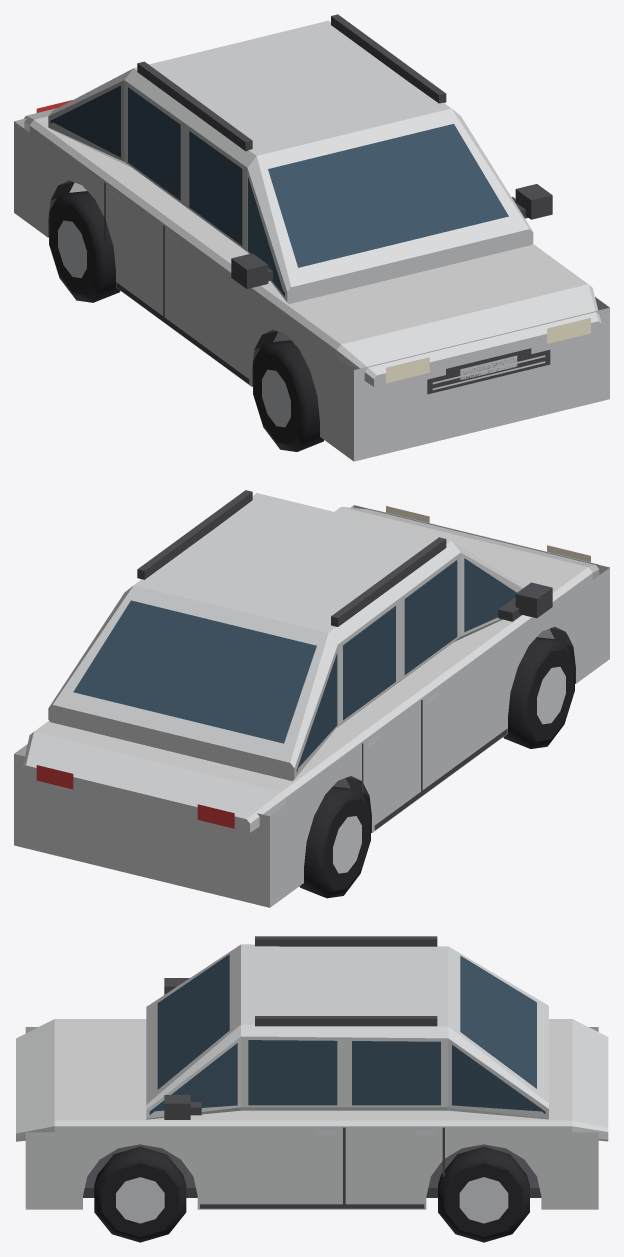
The picture shows the model from 3 angles, top to bottom: view 1: azimuth 30°, elevation 25°; view 2: azimuth 150°, elevation 25°; view 3: azimuth 270°, elevation 25°; orthographic projection. The views are drawn at different scales.
Parts seen in each view (by area): view 1: 356; view 2: 356; view 3: 356.
Part boxes in pixels (x1=…): 356: x1=14, y1=14, x2=609, y2=461; 356: x1=14, y1=490, x2=609, y2=907; 356: x1=16, y1=936, x2=608, y2=1242.
Bounding box in the file's own units: 2.15 × 1.67 × 4.31.
